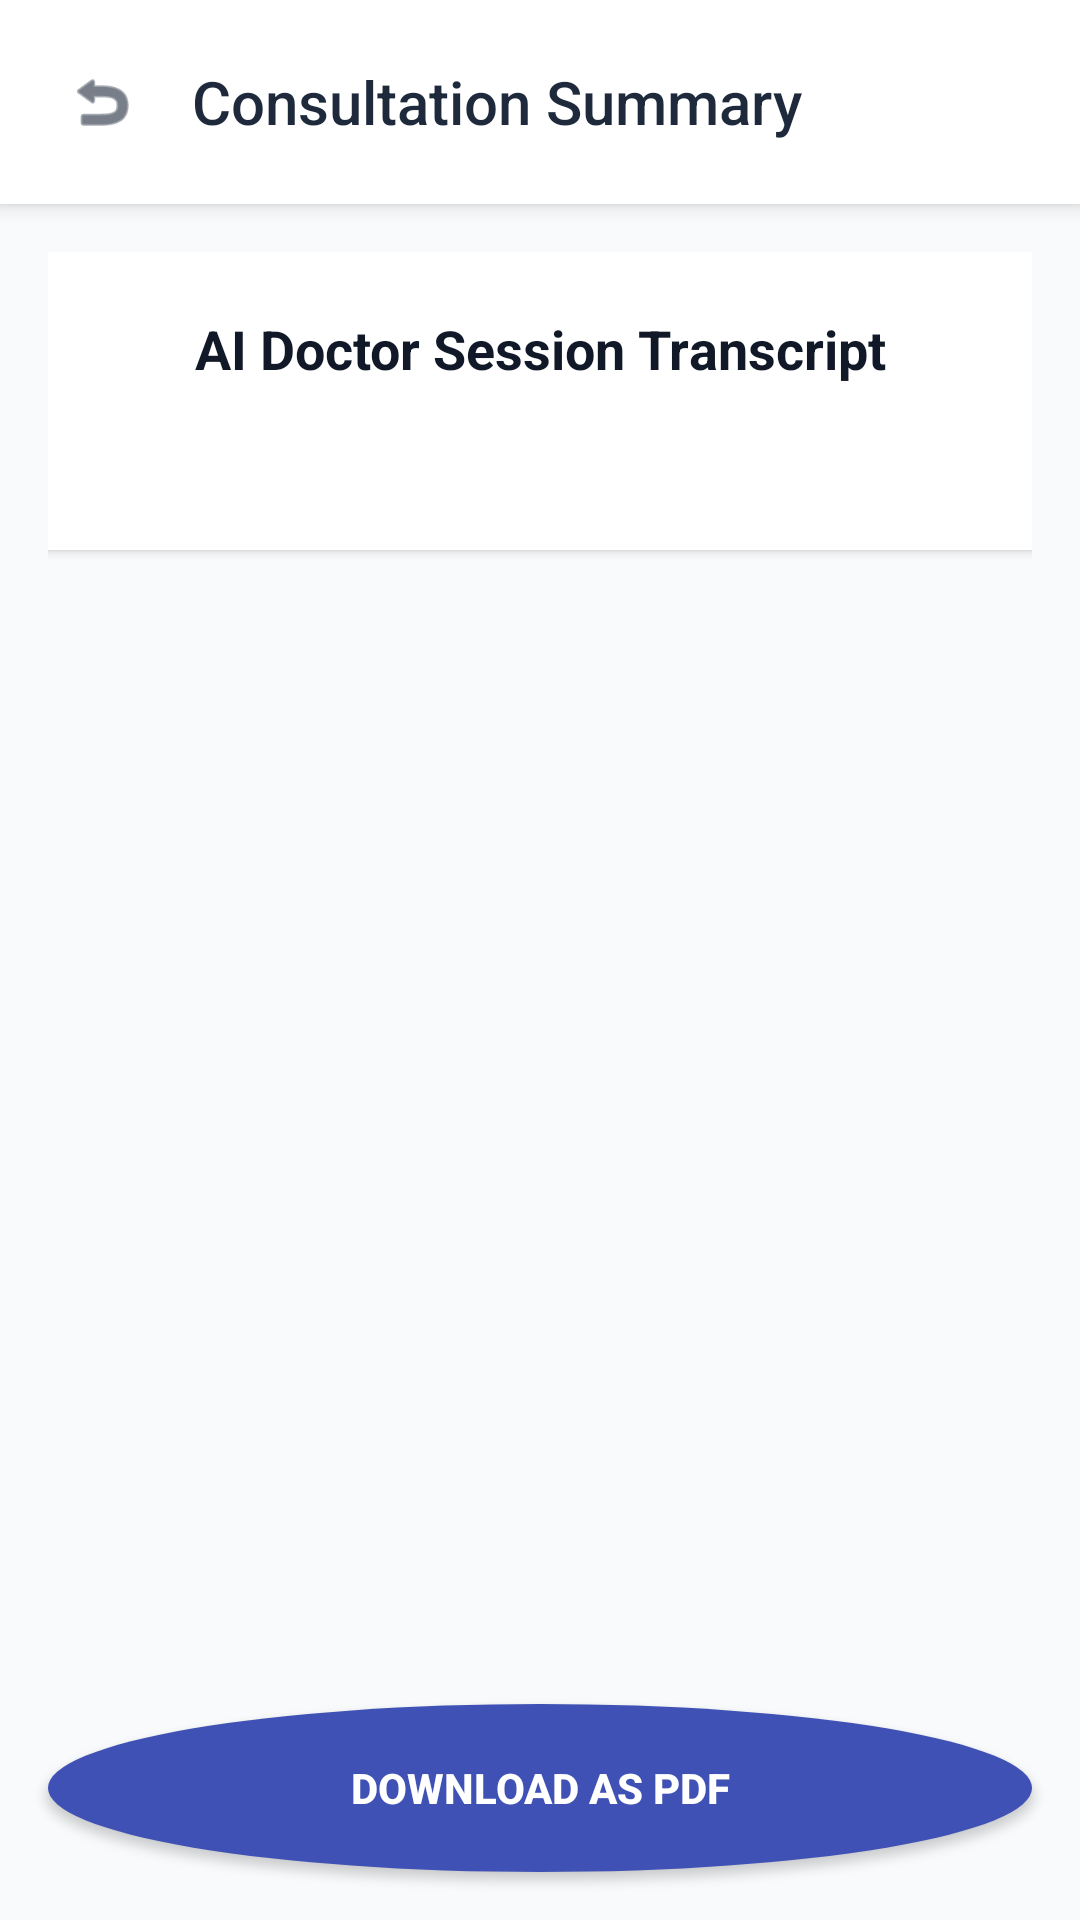

Named icons in this screenshot (1080 × 1920) and their bounding boxes, (x1, y1, x2, y2):
revert: (77, 79, 129, 126)
